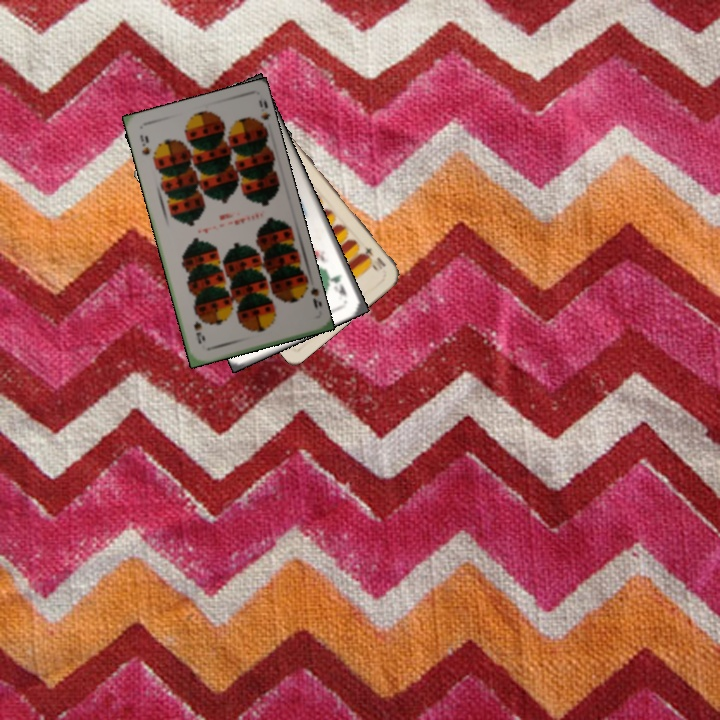E10: (359, 243, 389, 269)
GK: (327, 270, 350, 300)
S9: (297, 277, 323, 313), (136, 131, 152, 157)
